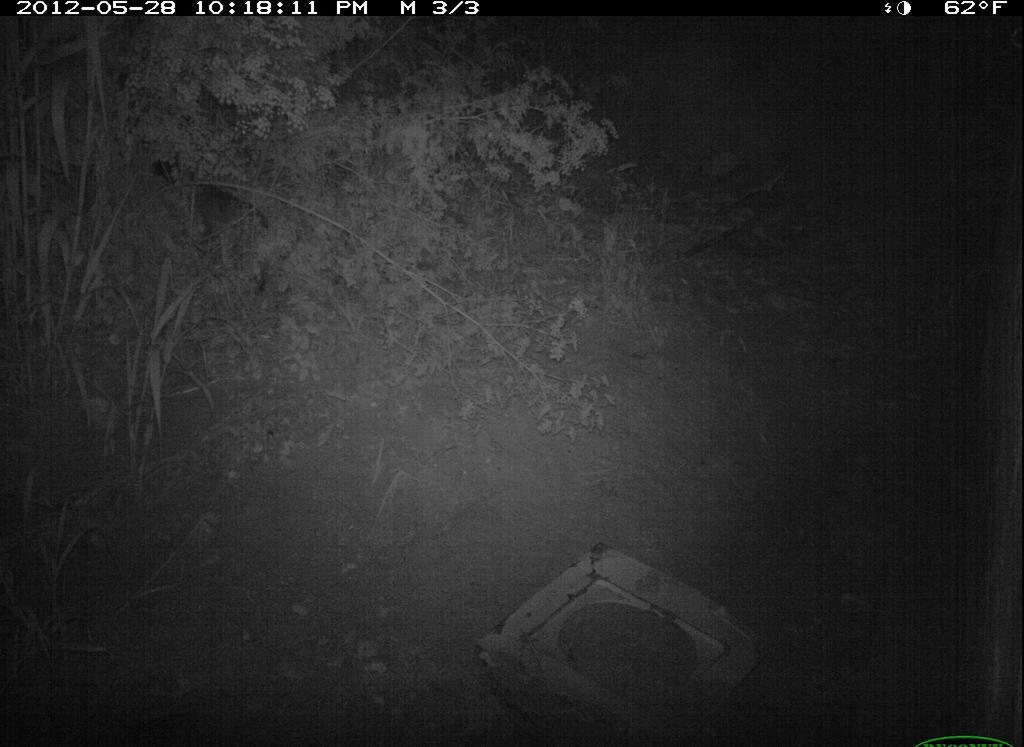cat: (137, 143, 314, 310)
